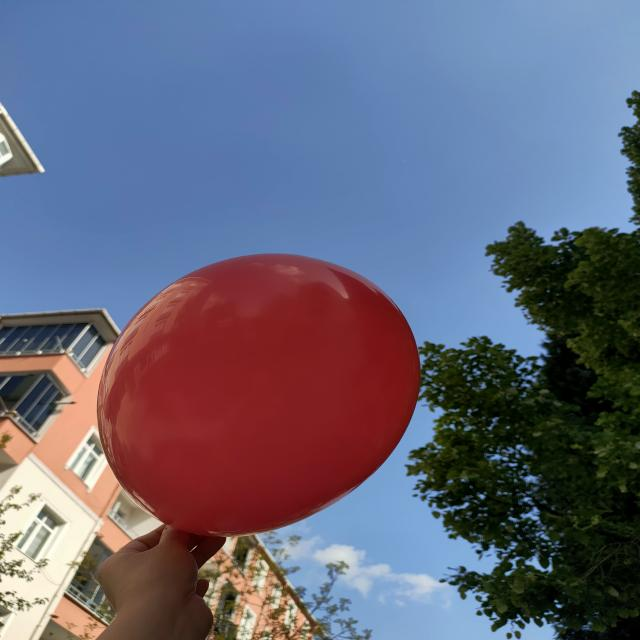red: (99, 255, 420, 539)
